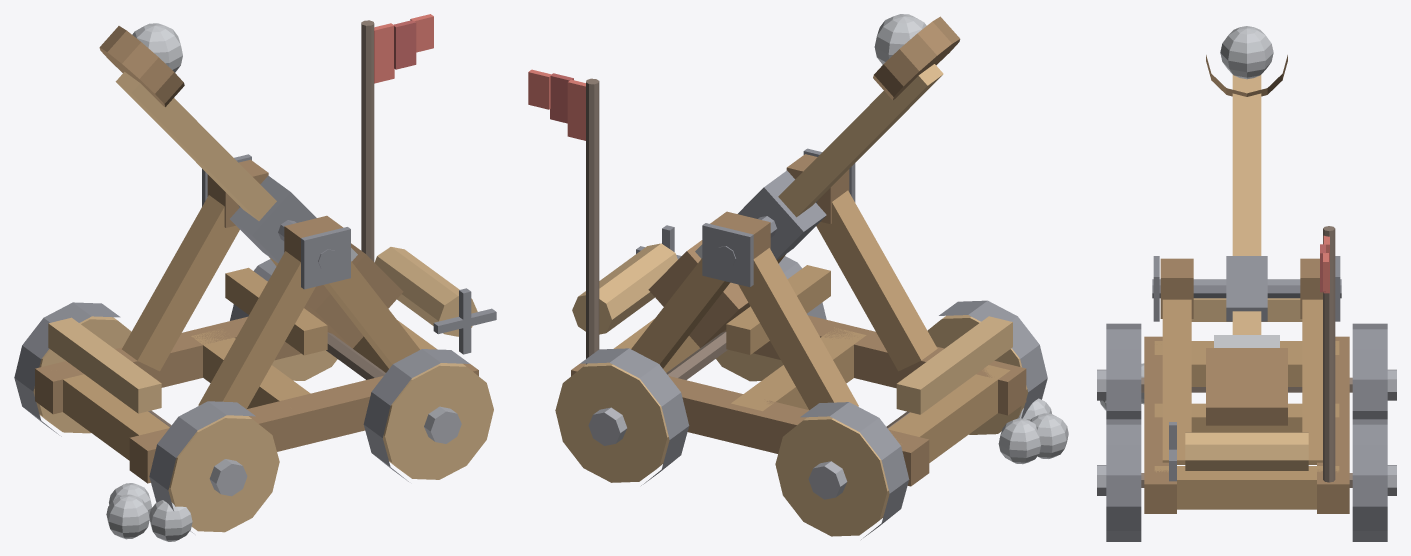
Rendered from ws_siege_catapult.glb.
The picture shows the model from 3 angles, left to right: view 1: azimuth 30°, elevation 25°; view 2: azimuth 150°, elevation 25°; view 3: azimuth 270°, elevation 25°; orthographic projection. The views are drawn at different scales.
Visible parts, largest first — view 1: frame, arm; view 2: frame, arm; view 3: frame, arm.
Boxes of the visible parts, x1,y1,x2,y2 form: frame: [14, 14, 496, 541]; arm: [99, 23, 403, 348]; frame: [528, 69, 1068, 539]; arm: [648, 14, 960, 347]; frame: [1097, 226, 1396, 541]; arm: [1206, 26, 1287, 425].
Size of the model in its own units: 2.17 by 2.24 by 1.46.
